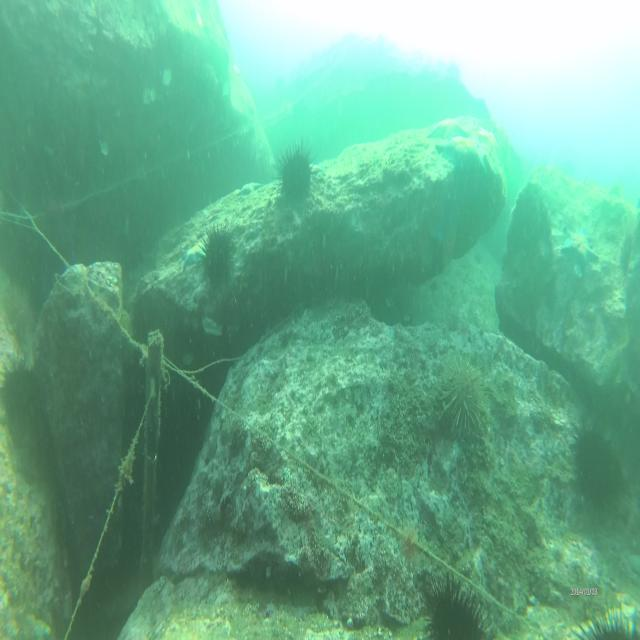echinus: (441, 360, 489, 444), (428, 576, 489, 640), (572, 423, 620, 499), (277, 142, 315, 209), (2, 354, 38, 420), (202, 227, 236, 282)
starfish: (442, 134, 490, 171), (561, 222, 597, 269), (428, 115, 471, 143), (180, 240, 206, 271), (476, 125, 500, 154)
